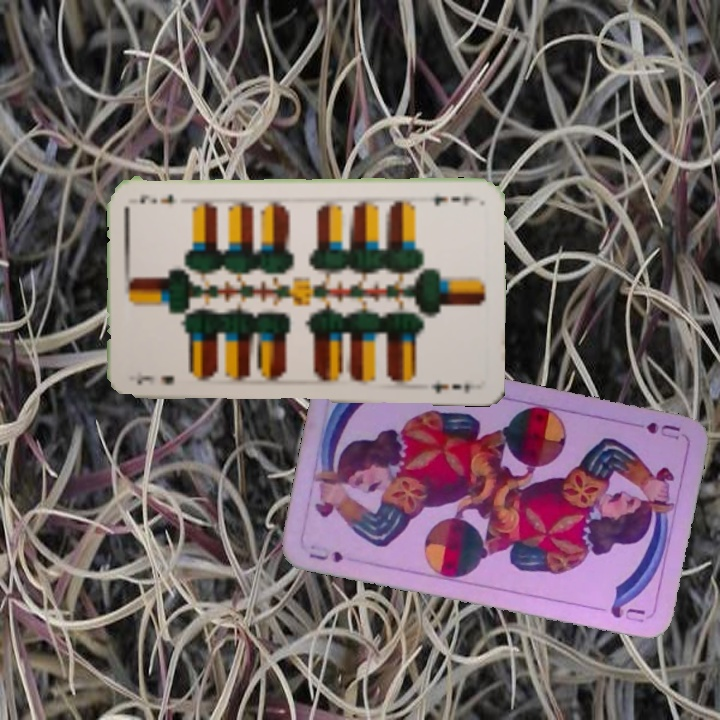E7: (429, 191, 480, 208), (132, 370, 176, 388)
SU: (642, 417, 683, 443), (305, 547, 346, 566)
